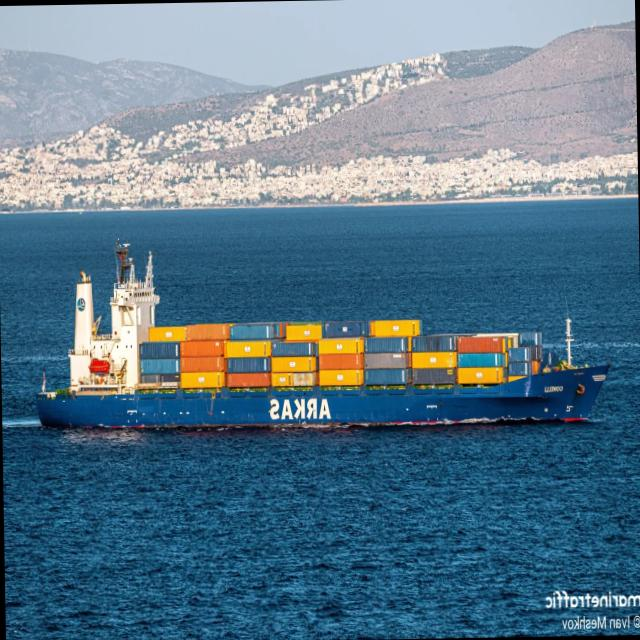Cargo: (37, 242, 610, 426)
